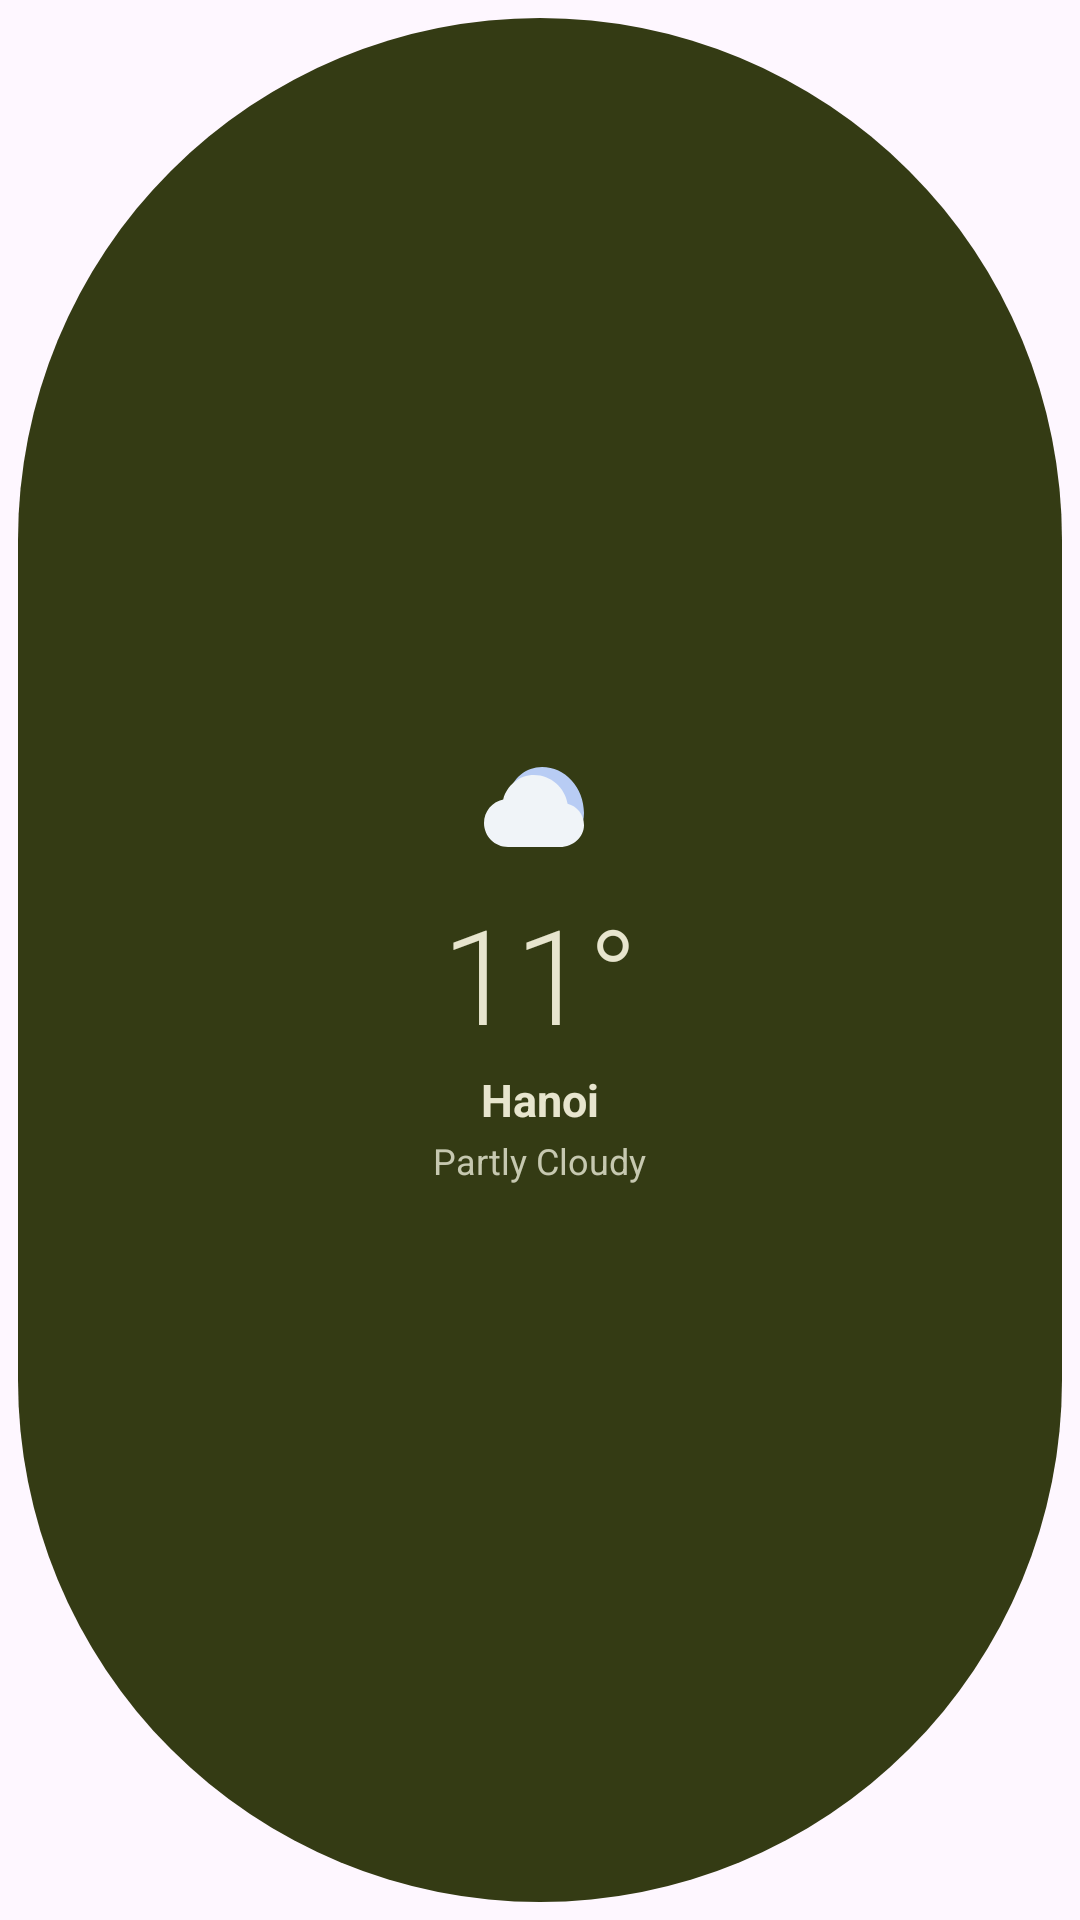

Named icons in this screenshot (1080px x 1920px) and their bounding boxes, (x1, y1, x2, y2):
Partly Cloudy: (484, 767, 584, 847)
